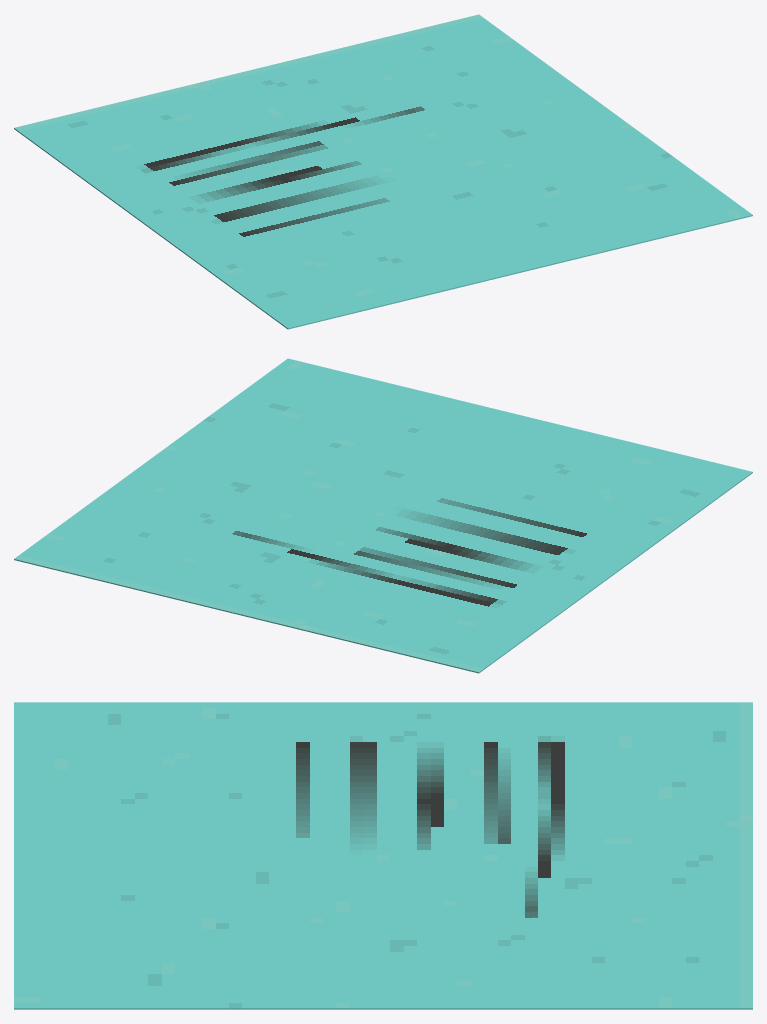
The model's file is LIXA_lab_postit.glb.
3 renders of one model, top to bottom at view 1: azimuth 30°, elevation 25°; view 2: azimuth 150°, elevation 25°; view 3: azimuth 270°, elevation 25°, orthographic. The views are drawn at different scales.
Parts seen in each view (by area): view 1: block_printed paper; view 2: block_printed paper; view 3: block_printed paper.
Boxes of the visible parts, x1,y1,x2,y2 form: block_printed paper: (14,14,752,329); block_printed paper: (14,358,752,673); block_printed paper: (14,702,752,1009).
Size of the model in its own units: 0.0745 by 0.000177 by 0.076.
1 material, 1 textured.
